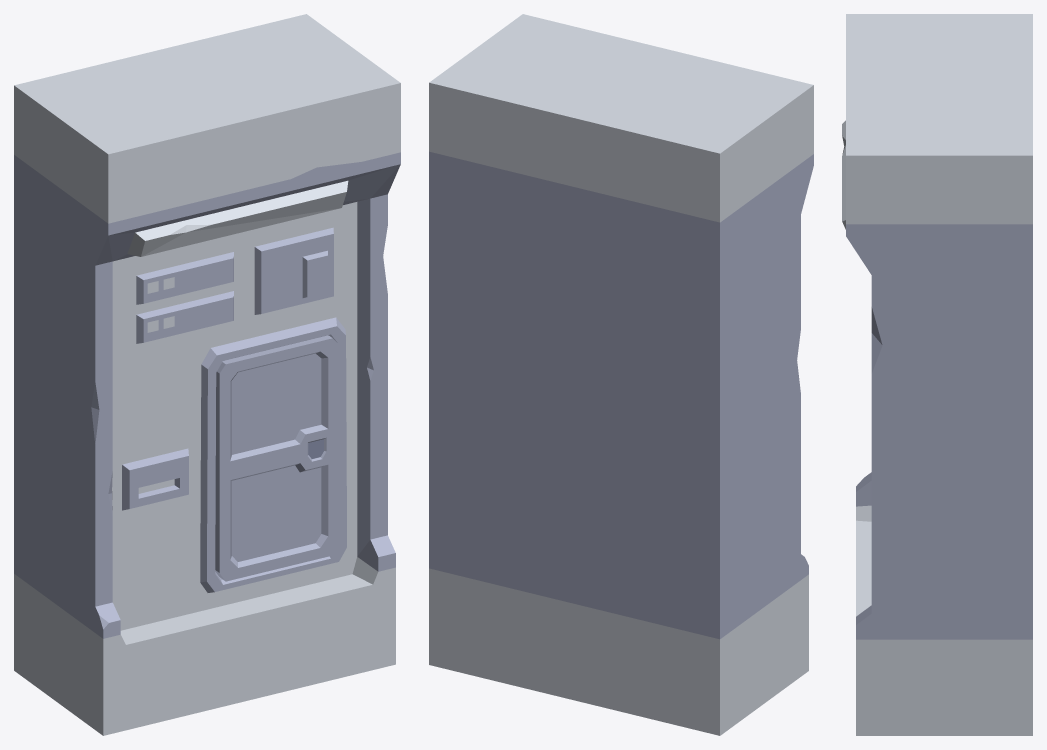
File: Shower.FBX
The picture shows the model from 3 angles, left to right: view 1: azimuth 30°, elevation 25°; view 2: azimuth 150°, elevation 25°; view 3: azimuth 270°, elevation 25°; orthographic projection.
Visible parts, largest first — view 1: Shower, Door; view 2: Shower; view 3: Shower.
Boxes of the visible parts, x1,y1,x2,y2 form: Shower: (14,14,400,735); Door: (215,335,338,581); Shower: (429,14,813,735); Shower: (842,14,1032,735).
Bounding box in the file's own units: 18.38 × 35.14 × 10.47.
